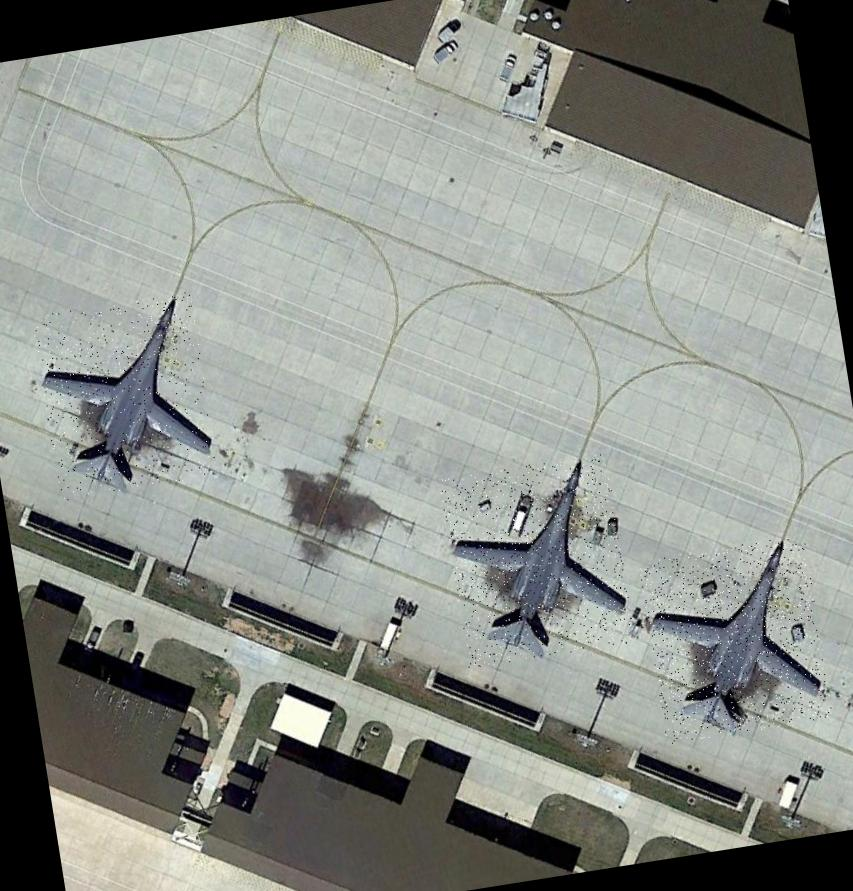A10: (439, 452, 636, 668), (638, 534, 832, 744), (31, 291, 219, 501)
